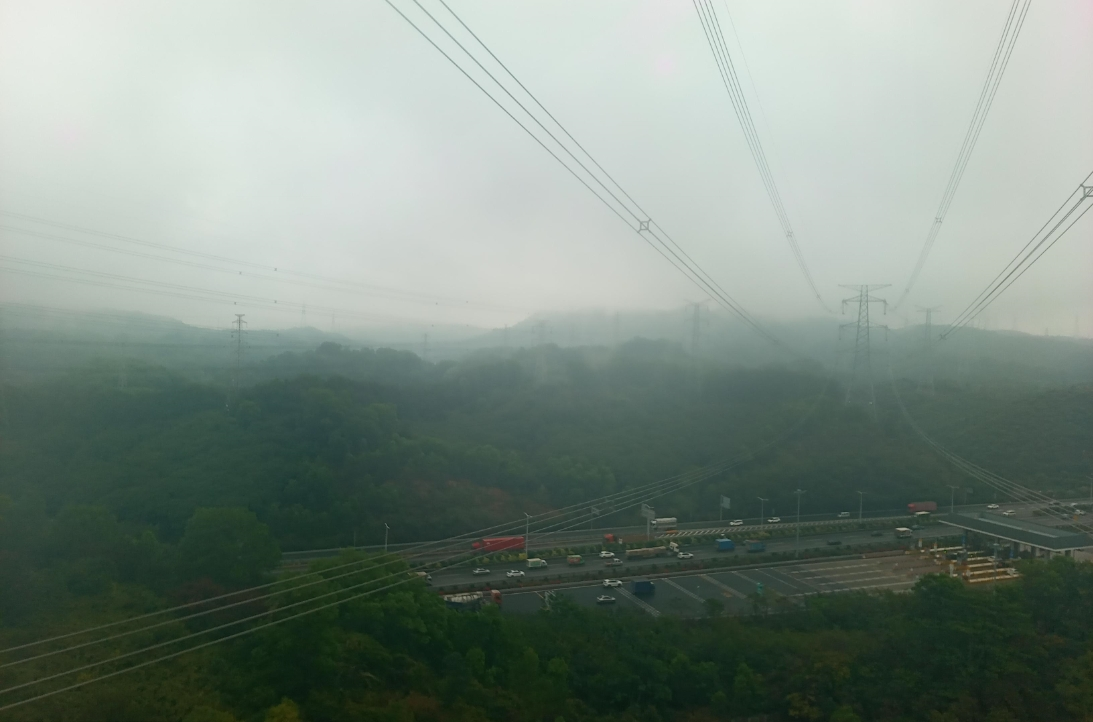山间云雾: (0, 0, 1093, 530)
